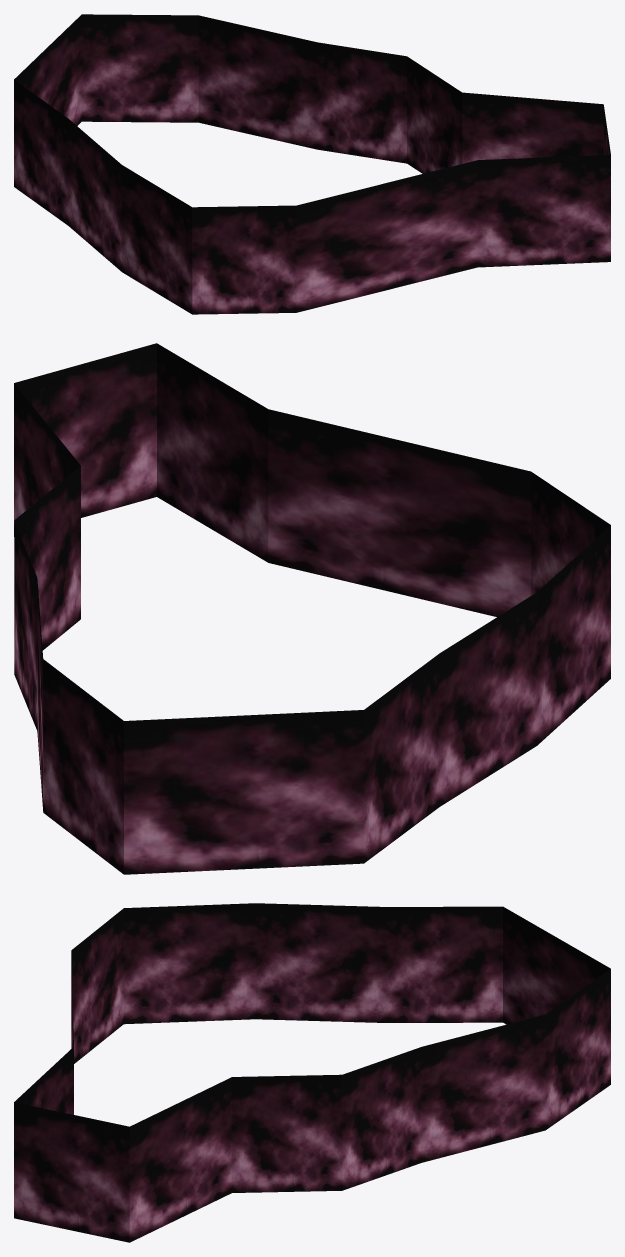
3 renders of one model, top to bottom at view 1: azimuth 30°, elevation 25°; view 2: azimuth 150°, elevation 25°; view 3: azimuth 270°, elevation 25°, orthographic. The views are drawn at different scales.
Parts seen in each view (by area): view 1: Line03; view 2: Line03; view 3: Line03.
Boxes of the visible parts, x1,y1,x2,y2 form: Line03: [14, 14, 610, 314]; Line03: [14, 343, 610, 874]; Line03: [14, 903, 610, 1242].
Bounding box in the file's own units: 2092 × 507 × 2362.
